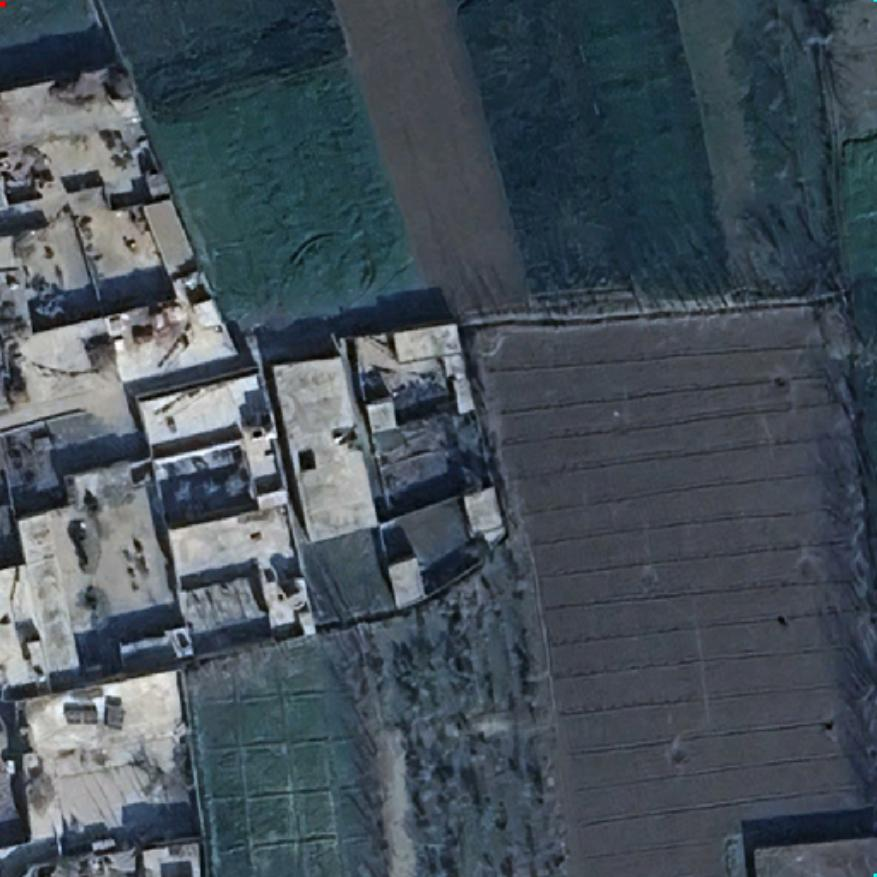Solarpanel: (61, 702, 101, 728), (101, 701, 126, 732)
